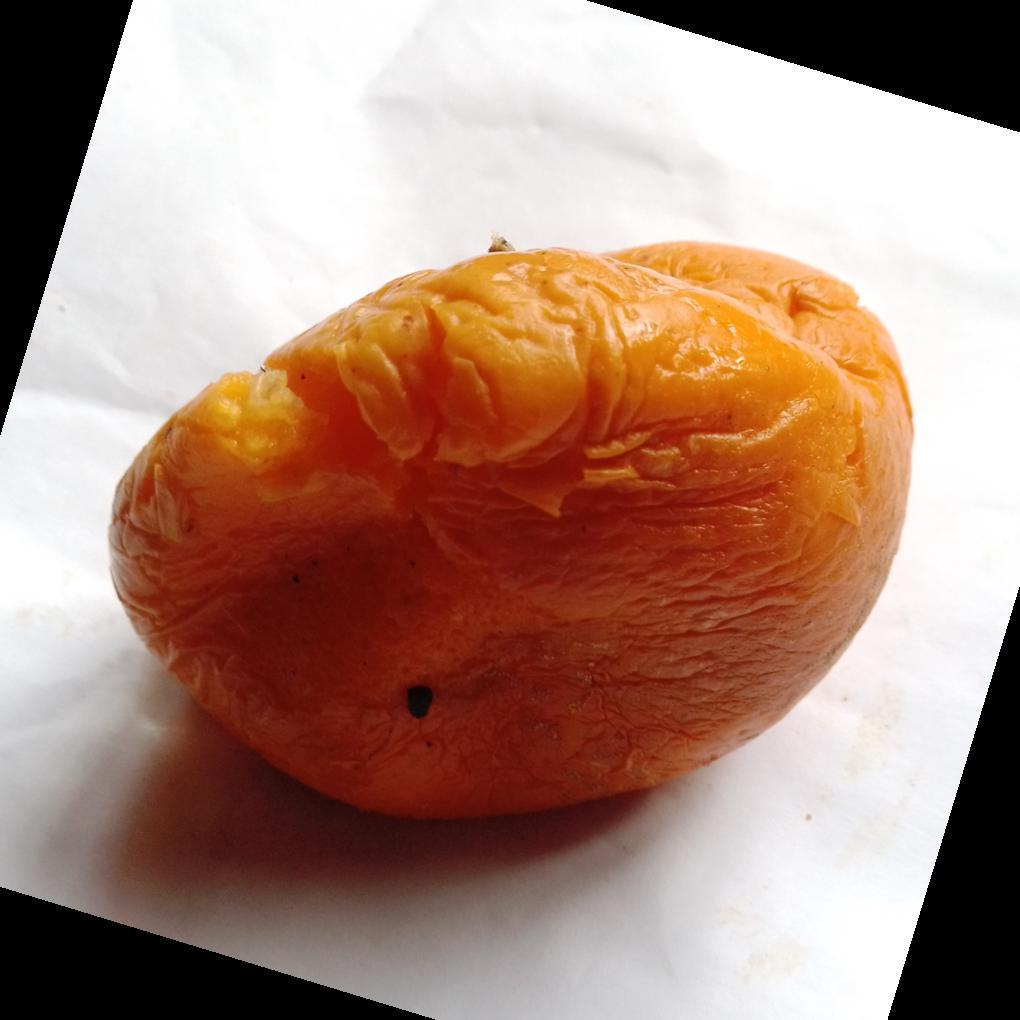FreshOrange: (105, 240, 916, 826)
